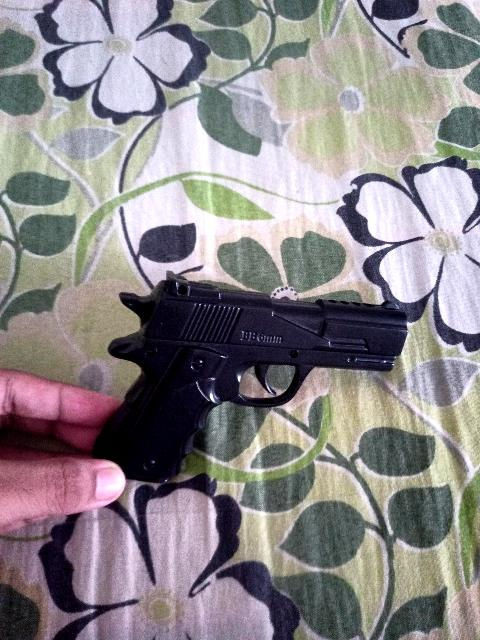pistol: (95, 273, 407, 481)
